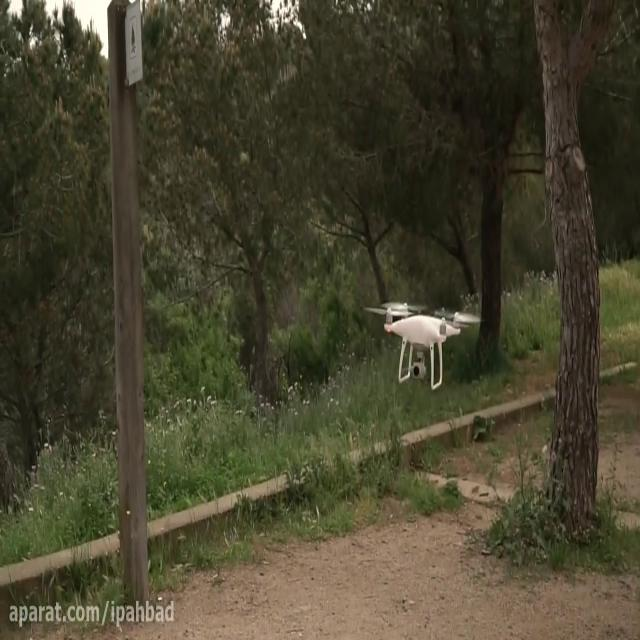drone: (361, 298, 481, 388)
